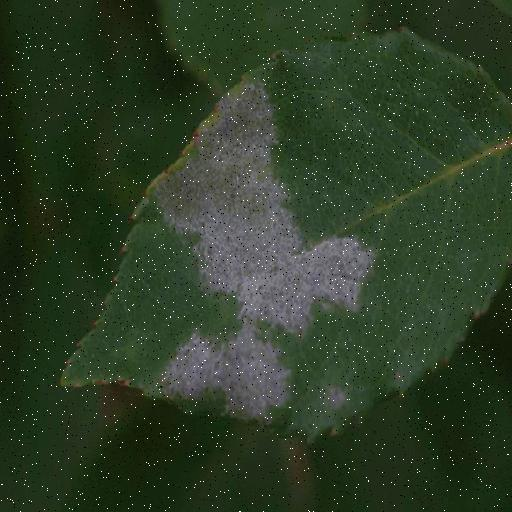powdery_mildew: (62, 30, 512, 440)
